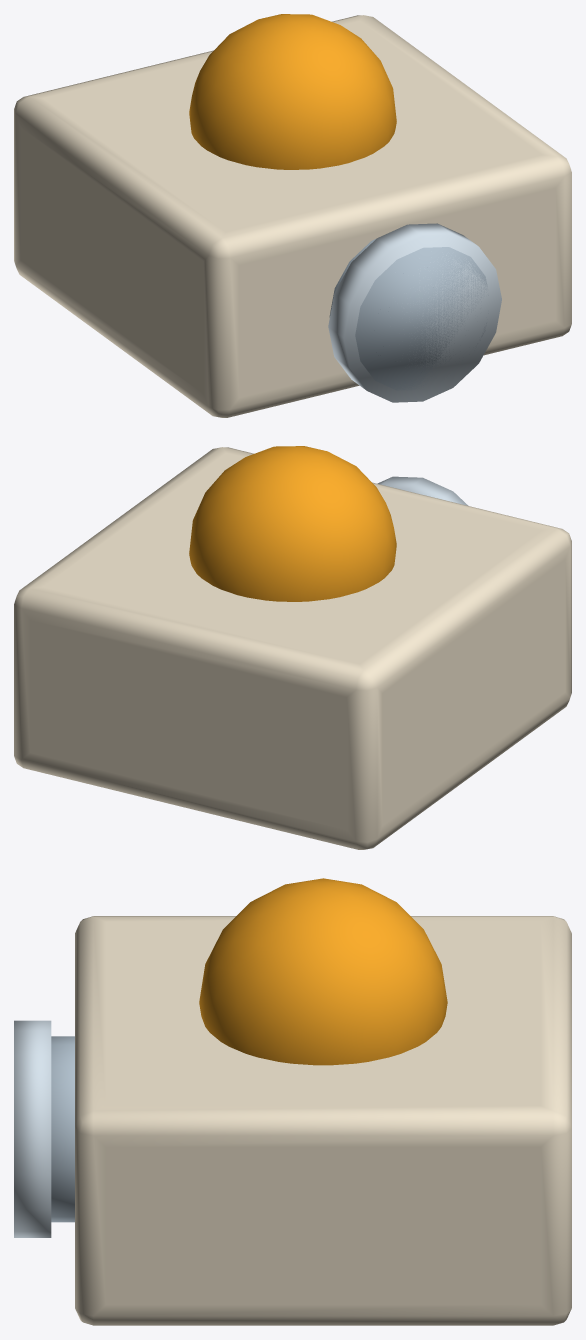
The model's file is source_tank.glb.
3 views of the same model, one above another, from view 1: azimuth 30°, elevation 25°; view 2: azimuth 150°, elevation 25°; view 3: azimuth 270°, elevation 25° (orthographic). The views are drawn at different scales.
Visible parts, largest first — view 1: Tank_Body, Tank_Orb, Tank_Collar, Tank_Shell; view 2: Tank_Body, Tank_Orb, Tank_Collar; view 3: Tank_Body, Tank_Orb, Tank_Collar, Tank_Shell.
Boxes of the visible parts, left/top/right/bottom form: Tank_Body: left=14, top=15, right=571, bottom=417; Tank_Orb: left=189, top=14, right=396, bottom=169; Tank_Collar: left=328, top=223, right=501, bottom=402; Tank_Shell: left=329, top=239, right=488, bottom=390; Tank_Body: left=14, top=447, right=571, bottom=849; Tank_Orb: left=189, top=446, right=396, bottom=601; Tank_Collar: left=377, top=476, right=468, bottom=505; Tank_Body: left=75, top=916, right=571, bottom=1325; Tank_Orb: left=199, top=878, right=447, bottom=1065; Tank_Collar: left=14, top=1020, right=51, bottom=1237; Tank_Shell: left=51, top=1036, right=74, bottom=1222.
Size of the model in its own units: 0.8 by 0.6 by 0.898.
